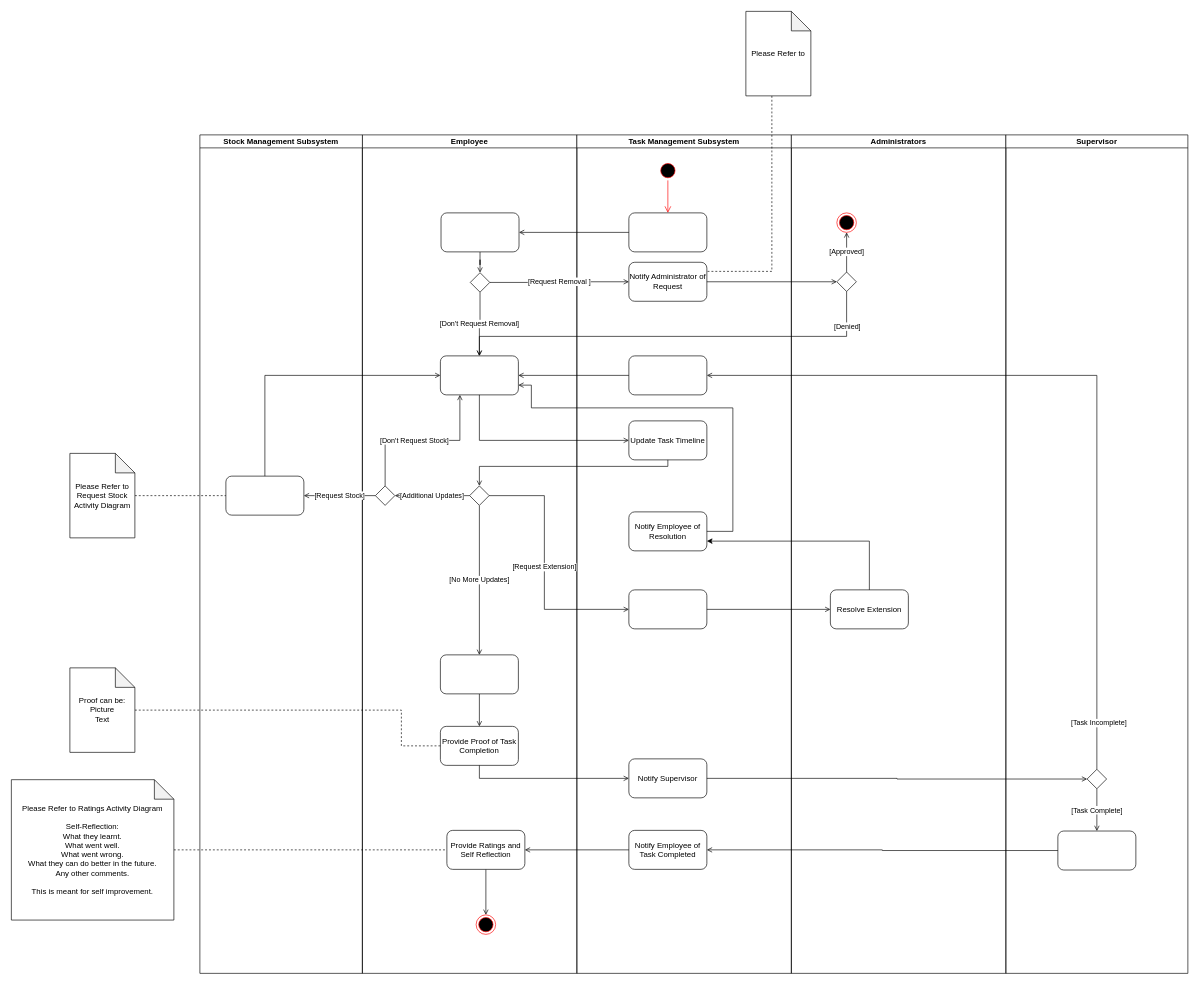
Image size: 1199x985. Some labels were removed from this diagram. Each missing label, with the centre of its shape:
Click on Task: point 479,232
Display Current Tasks: point 667,232
Mark Task as Complete: point 479,674
Notify Administator of Stock Request: point 264,495
Notify Administrator: point 667,609
Notify Employee of Incomplete Task: point 667,375
Provide Update on Task: point 479,375
Sign off On Task: point 1096,850
